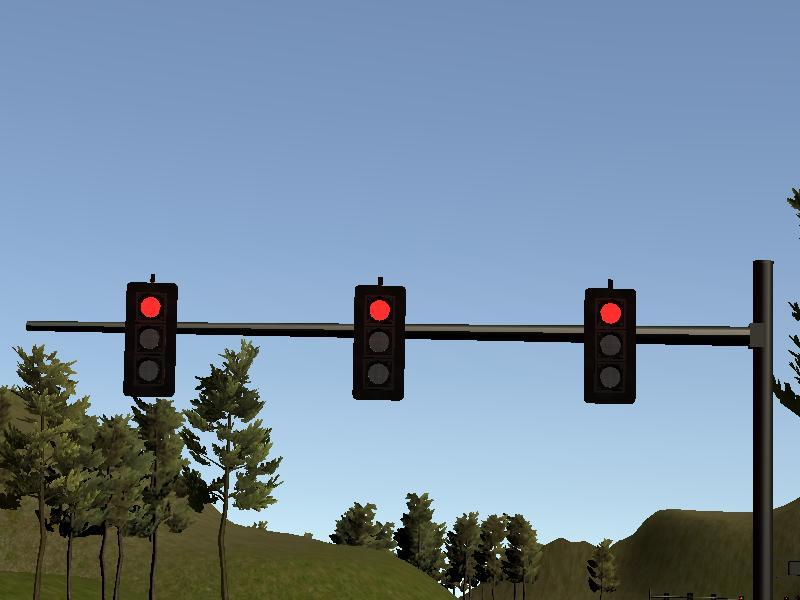Red: (586, 290, 637, 401), (355, 284, 404, 398), (128, 284, 175, 395)
